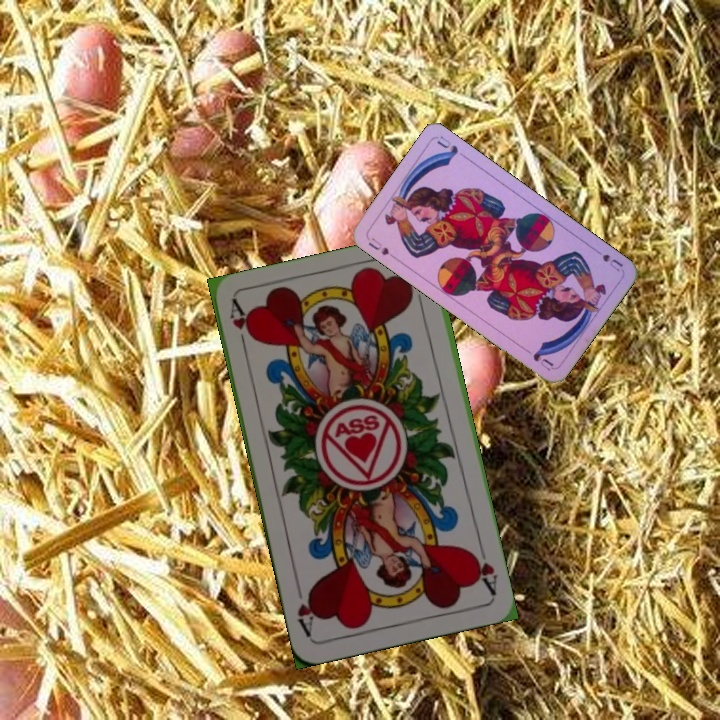HA: (467, 539, 501, 598), (225, 298, 255, 357)
SU: (589, 245, 626, 274), (364, 233, 399, 262)
